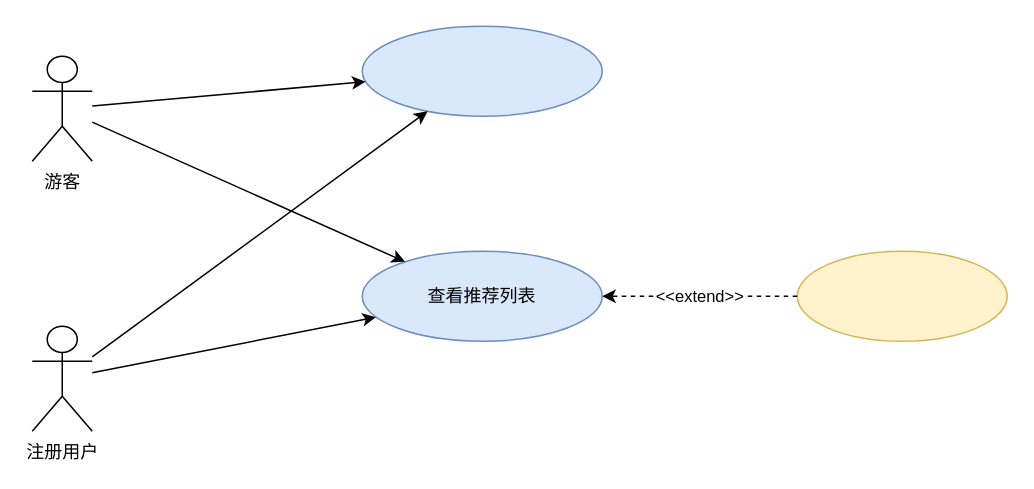
Some shapes in this 1034 by 489 pixel diagram are drawn without their labels. Here are the shapes that lost their labels. From the top down, the centre of each, then its label:
At (481,70): "媒体首页摘要".
At (901,295): "按类别筛选".
